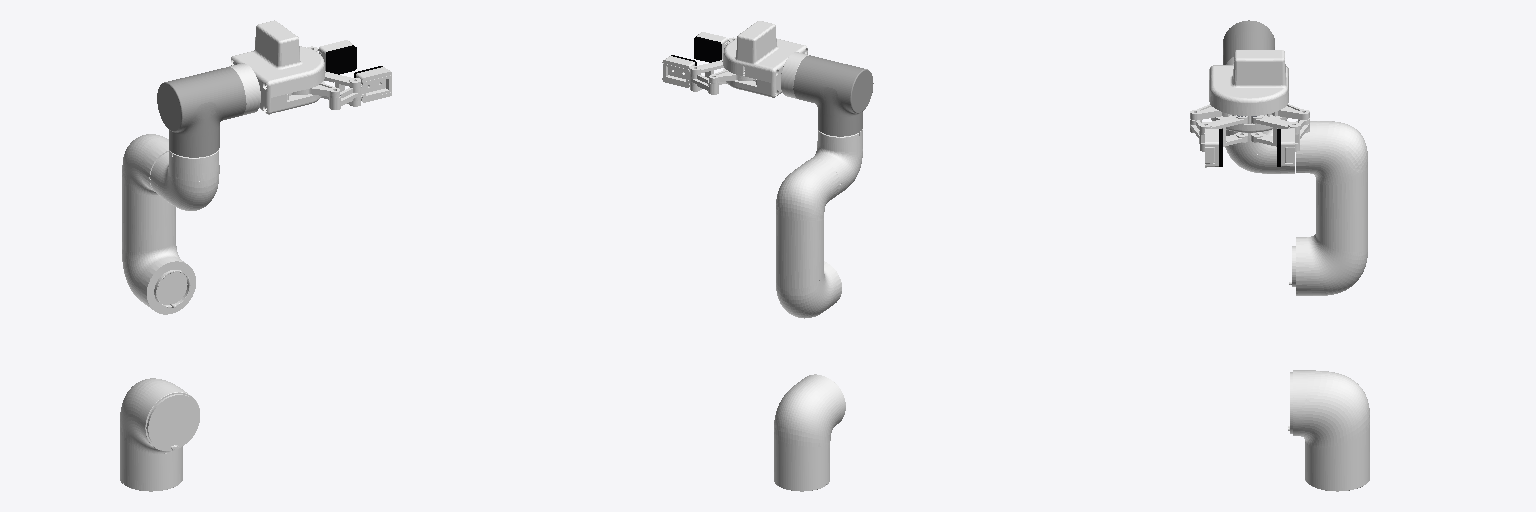
The robot description file, URDF, robot "mycobot_280_jn":
<?xml version="1.0"?>
<robot name="mycobot_280_jn">
  <link name="world"/>
  <joint name="world_to_g_base" type="fixed"><parent link="world"/><child link="g_base"/><origin xyz="0 0 0" rpy="0 0 0"/></joint>

  <link name="g_base">
    <visual>
      <geometry><mesh filename="package://mycobot_description/urdf/mycobot_280_jn_sim/meshes/visual/g_base.dae"/></geometry>
    </visual>
    <collision>
      <geometry><mesh filename="package://mycobot_description/urdf/mycobot_280_jn_sim/meshes/collision/g_base.stl"/></geometry>
    </collision>
    <inertial>
      <origin xyz="0.000004 0.000000 0.016000" rpy="0 0 0"/>
      <mass value="1.00000"/>
      <inertia ixx="1.9413e-03" ixy="3.1506e-09" ixz="8.1608e-14" iyy="1.0835e-03" iyz="-2.2217e-08" izz="2.8542e-03"/>
    </inertial>
  </link>
  <joint name="g_base_to_joint1" type="fixed"><parent link="g_base"/><child link="joint1"/><origin xyz="0 0 0.0320" rpy="0 0 0"/></joint>

  <link name="joint1">
    <visual>
      <geometry><mesh filename="package://mycobot_description/urdf/mycobot_280_jn_sim/meshes/visual/joint1.dae"/></geometry>
    </visual>
    <collision>
      <geometry><mesh filename="package://mycobot_description/urdf/mycobot_280_jn_sim/meshes/collision/joint1.stl"/></geometry>
    </collision>
    <inertial>
      <origin xyz="-0.000007 -0.000080 0.049738" rpy="0 0 0"/>
      <mass value="0.51726"/>
      <inertia ixx="1.2523e-03" ixy="7.0339e-09" ixz="-6.3450e-08" iyy="9.3955e-04" iyz="1.1529e-06" izz="1.2061e-03"/>
    </inertial>
  </link>
  <link name="joint2">
    <visual>
      <geometry><mesh filename="package://mycobot_description/urdf/mycobot_280_jn_sim/meshes/visual/joint2.dae"/></geometry>
    </visual>
    <collision>
      <geometry><mesh filename="package://mycobot_description/urdf/mycobot_280_jn_sim/meshes/collision/joint2.stl"/></geometry>
    </collision>
    <inertial>
      <origin xyz="-0.000000 -0.006642 -0.021543" rpy="0 0 0"/>
      <mass value="0.06483"/>
      <inertia ixx="4.7296e-05" ixy="-1.4455e-10" ixz="4.0893e-11" iyy="4.2690e-05" iyz="5.2950e-06" izz="2.4363e-05"/>
    </inertial>
  </link>
  <link name="joint3">
    <visual>
      <geometry><mesh filename="package://mycobot_description/urdf/mycobot_280_jn_sim/meshes/visual/joint3.dae"/></geometry>
    </visual>
    <collision>
      <geometry><mesh filename="package://mycobot_description/urdf/mycobot_280_jn_sim/meshes/collision/joint3.stl"/></geometry>
    </collision>
    <inertial>
      <origin xyz="-0.054329 -0.000001 0.055329" rpy="0 0 0"/>
      <mass value="0.11472"/>
      <inertia ixx="4.1667e-05" ixy="-4.5301e-09" ixz="-7.2144e-07" iyy="2.1506e-04" iyz="-8.8599e-10" izz="2.0847e-04"/>
    </inertial>
  </link>
  <link name="joint4">
    <visual>
      <geometry><mesh filename="package://mycobot_description/urdf/mycobot_280_jn_sim/meshes/visual/joint4.dae"/></geometry>
    </visual>
    <collision>
      <geometry><mesh filename="package://mycobot_description/urdf/mycobot_280_jn_sim/meshes/collision/joint4.stl"/></geometry>
    </collision>
    <inertial>
      <origin xyz="-0.045854 0.000000 0.007555" rpy="0 0 0"/>
      <mass value="0.09148"/>
      <inertia ixx="3.0829e-05" ixy="2.4590e-09" ixz="-3.0073e-06" iyy="1.3707e-04" iyz="1.3305e-09" izz="1.2859e-04"/>
    </inertial>
  </link>
  <link name="joint5">
    <visual>
      <geometry><mesh filename="package://mycobot_description/urdf/mycobot_280_jn_sim/meshes/visual/joint5.dae"/></geometry>
    </visual>
    <collision>
      <geometry><mesh filename="package://mycobot_description/urdf/mycobot_280_jn_sim/meshes/collision/joint5.stl"/></geometry>
    </collision>
    <inertial>
      <origin xyz="0.000001 -0.009519 -0.008481" rpy="0 0 0"/>
      <mass value="0.02935"/>
      <inertia ixx="1.1293e-05" ixy="2.2528e-10" ixz="1.0500e-10" iyy="8.1426e-06" iyz="1.6096e-06" izz="8.8742e-06"/>
    </inertial>
  </link>
  <link name="joint6">
    <visual>
      <geometry><mesh filename="package://mycobot_description/urdf/mycobot_280_jn_sim/meshes/visual/joint6.dae"/></geometry>
    </visual>
    <collision>
      <geometry><mesh filename="package://mycobot_description/urdf/mycobot_280_jn_sim/meshes/collision/joint6.stl"/></geometry>
    </collision>
    <inertial>
      <origin xyz="-0.000000 0.005619 -0.009142" rpy="0 0 0"/>
      <mass value="0.03671"/>
      <inertia ixx="1.6852e-05" ixy="1.3225e-11" ixz="9.2639e-11" iyy="1.2050e-05" iyz="-8.3674e-07" izz="1.2581e-05"/>
    </inertial>
  </link>
  <link name="joint6_flange">
    <visual>
      <geometry><mesh filename="package://mycobot_description/urdf/mycobot_280_jn_sim/meshes/visual/joint6_flange.dae"/></geometry>
    </visual>
    <collision>
      <geometry><mesh filename="package://mycobot_description/urdf/mycobot_280_jn_sim/meshes/collision/joint6_flange.stl"/></geometry>
    </collision>
    <inertial>
      <origin xyz="-0.000000 -0.000000 -0.005150" rpy="0 0 0"/>
      <mass value="0.00565"/>
      <inertia ixx="6.0852e-07" ixy="-5.1861e-24" ixz="1.4684e-24" iyy="6.0852e-07" iyz="-7.5632e-16" izz="1.0405e-06"/>
    </inertial>
  </link>
  <joint name="joint2_to_joint1" type="revolute">
    <parent link="joint1"/><child link="joint2"/>
    <origin xyz="0 0 0.15756" rpy="0 0 0"/>
    <axis xyz="0 0 1"/>
    <limit effort="10.0" lower="-2.9321" upper="2.9321" velocity="1.0"/>
    <dynamics damping="0.1" friction="0.01"/>
  </joint>
  <joint name="joint3_to_joint2" type="revolute">
    <parent link="joint2"/><child link="joint3"/>
    <origin xyz="0 0 -0.001" rpy="0 1.5708 -1.5708"/>
    <axis xyz="0 0 1"/>
    <limit effort="10.0" lower="-2.4434" upper="2.4434" velocity="1.0"/>
    <dynamics damping="0.1" friction="0.01"/>
  </joint>
  <joint name="joint4_to_joint3" type="revolute">
    <parent link="joint3"/><child link="joint4"/>
    <origin xyz="-0.1104 0 0" rpy="0 0 0"/>
    <axis xyz="0 0 1"/>
    <limit effort="10.0" lower="-2.6179" upper="2.6179" velocity="1.0"/>
    <dynamics damping="0.1" friction="0.01"/>
  </joint>
  <joint name="joint5_to_joint4" type="revolute">
    <parent link="joint4"/><child link="joint5"/>
    <origin xyz="-0.096 0 0.06462" rpy="0 0 -1.5708"/>
    <axis xyz="0 0 1"/>
    <limit effort="10.0" lower="-2.6179" upper="2.6179" velocity="1.0"/>
    <dynamics damping="0.1" friction="0.01"/>
  </joint>
  <joint name="joint6_to_joint5" type="revolute">
    <parent link="joint5"/><child link="joint6"/>
    <origin xyz="0 -0.07318 0" rpy="1.5708 -1.5708 0"/>
    <axis xyz="0 0 1"/>
    <limit effort="10.0" lower="-2.7052" upper="2.7925" velocity="1.0"/>
    <dynamics damping="0.1" friction="0.01"/>
  </joint>
  <joint name="joint6output_to_joint6" type="revolute">
    <parent link="joint6"/><child link="joint6_flange"/>
    <origin xyz="0 0.0456 0" rpy="-1.5708 0 0"/>
    <axis xyz="0 0 1"/>
    <limit effort="10.0" lower="-3.14159" upper="3.14159" velocity="1.0"/>
    <dynamics damping="0.1" friction="0.01"/>
  </joint>
  <joint name="joint6output_to_gripper_base" type="fixed">
    <parent link="joint6_flange"/><child link="gripper_base"/>
    <origin xyz="0 0 0.0340" rpy="1.5708 0 0"/>
  </joint>
  <link name="gripper_base">
    <visual>
      <geometry><mesh filename="package://mycobot_description/urdf/mycobot_280_jn_sim/meshes/visual/gripper_base.dae"/></geometry>
    </visual>
    <collision>
      <geometry><mesh filename="package://mycobot_description/urdf/mycobot_280_jn_sim/meshes/collision/gripper_base.stl"/></geometry>
    </collision>
    <inertial>
      <origin xyz="-0.001001 -0.003635 0.008093" rpy="0 0 0"/>
      <mass value="0.07075"/>
      <inertia ixx="2.8026e-05" ixy="5.3586e-08" ixz="1.3520e-06" iyy="2.7596e-05" iyz="-2.1469e-07" izz="3.3185e-05"/>
    </inertial>
  </link>
  <link name="gripper_left1">
    <visual>
      <geometry><mesh filename="package://mycobot_description/urdf/mycobot_280_jn_sim/meshes/visual/gripper_left1.dae"/></geometry>
    </visual>
    <collision>
      <geometry><mesh filename="package://mycobot_description/urdf/mycobot_280_jn_sim/meshes/collision/gripper_left1.stl"/></geometry>
    </collision>
    <inertial>
      <origin xyz="0.008214 0.028640 -0.008200" rpy="0 0 0"/>
      <mass value="0.00818"/>
      <inertia ixx="1.9436e-06" ixy="-4.0582e-07" ixz="-4.5846e-18" iyy="4.9518e-07" iyz="1.0352e-17" izz="1.9801e-06"/>
    </inertial>
  </link>
  <link name="gripper_left2">
    <visual>
      <geometry><mesh filename="package://mycobot_description/urdf/mycobot_280_jn_sim/meshes/visual/gripper_left2.dae"/></geometry>
    </visual>
    <collision>
      <geometry><mesh filename="package://mycobot_description/urdf/mycobot_280_jn_sim/meshes/collision/gripper_left2.stl"/></geometry>
    </collision>
    <inertial>
      <origin xyz="-0.014480 0.007475 -0.008200" rpy="0 0 0"/>
      <mass value="0.00382"/>
      <inertia ixx="2.5930e-07" ixy="1.8945e-07" ixz="3.4700e-22" iyy="4.8476e-07" iyz="-1.7350e-22" izz="4.9007e-07"/>
    </inertial>
  </link>
  <link name="gripper_left3">
    <visual>
      <geometry><mesh filename="package://mycobot_description/urdf/mycobot_280_jn_sim/meshes/visual/gripper_left3.dae"/></geometry>
    </visual>
    <collision>
      <geometry><mesh filename="package://mycobot_description/urdf/mycobot_280_jn_sim/meshes/collision/gripper_left3.stl"/></geometry>
    </collision>
    <inertial>
      <origin xyz="-0.007273 0.003393 -0.000700" rpy="0 0 0"/>
      <mass value="0.00262"/>
      <inertia ixx="1.8212e-07" ixy="1.1552e-07" ixz="3.0543e-22" iyy="3.1951e-07" iyz="-1.8344e-22" izz="4.9073e-07"/>
    </inertial>
  </link>
  <link name="gripper_right1">
    <visual>
      <geometry><mesh filename="package://mycobot_description/urdf/mycobot_280_jn_sim/meshes/visual/gripper_right1.dae"/></geometry>
    </visual>
    <collision>
      <geometry><mesh filename="package://mycobot_description/urdf/mycobot_280_jn_sim/meshes/collision/gripper_right1.stl"/></geometry>
    </collision>
    <inertial>
      <origin xyz="-0.009429 0.029012 -0.008200" rpy="0 0 0"/>
      <mass value="0.00818"/>
      <inertia ixx="1.9436e-06" ixy="4.0581e-07" ixz="-4.5855e-18" iyy="4.9518e-07" iyz="-1.0353e-17" izz="1.9801e-06"/>
    </inertial>
  </link>
  <link name="gripper_right2">
    <visual>
      <geometry><mesh filename="package://mycobot_description/urdf/mycobot_280_jn_sim/meshes/visual/gripper_right2.dae"/></geometry>
    </visual>
    <collision>
      <geometry><mesh filename="package://mycobot_description/urdf/mycobot_280_jn_sim/meshes/collision/gripper_right2.stl"/></geometry>
    </collision>
    <inertial>
      <origin xyz="0.013373 0.007661 -0.008200" rpy="0 0 0"/>
      <mass value="0.00382"/>
      <inertia ixx="2.6459e-07" ixy="-1.9250e-07" ixz="-4.0483e-22" iyy="4.7946e-07" iyz="2.8917e-23" izz="4.9007e-07"/>
    </inertial>
  </link>
  <link name="gripper_right3">
    <visual>
      <geometry><mesh filename="package://mycobot_description/urdf/mycobot_280_jn_sim/meshes/visual/gripper_right3.dae"/></geometry>
    </visual>
    <collision>
      <geometry><mesh filename="package://mycobot_description/urdf/mycobot_280_jn_sim/meshes/collision/gripper_right3.stl"/></geometry>
    </collision>
    <inertial>
      <origin xyz="0.006227 0.003481 -0.000700" rpy="0 0 0"/>
      <mass value="0.00262"/>
      <inertia ixx="1.8527e-07" ixy="-1.1744e-07" ixz="-1.9519e-22" iyy="3.1623e-07" iyz="-1.5091e-22" izz="4.9060e-07"/>
    </inertial>
  </link>
  <joint name="gripper_controller" type="revolute">
    <parent link="gripper_base"/><child link="gripper_left3"/>
    <origin xyz="-0.012 0.005 0" rpy="0 0 0"/>
    <axis xyz="0 0 1"/>
    <limit effort="10.0" lower="-0.74" upper="0.15" velocity="1.0"/>
    <dynamics damping="0.1" friction="0.01"/>
  </joint>
  <joint name="gripper_base_to_gripper_left2" type="revolute">
    <parent link="gripper_base"/><child link="gripper_left2"/>
    <origin xyz="-0.005 0.027 0" rpy="0 0 0"/>
    <axis xyz="0 0 1"/>
    <limit effort="10.0" lower="-0.8" upper="0.5" velocity="1.0"/>
    <dynamics damping="0.1" friction="0.01"/>
    <mimic joint="gripper_controller" multiplier="1.0" offset="0"/>
  </joint>
  <joint name="gripper_left3_to_gripper_left1" type="revolute">
    <parent link="gripper_left3"/><child link="gripper_left1"/>
    <origin xyz="-0.027 0.016 0" rpy="0 0 0"/>
    <axis xyz="0 0 1"/>
    <limit effort="10.0" lower="-0.5" upper="0.5" velocity="1.0"/>
    <dynamics damping="0.1" friction="0.01"/>
    <mimic joint="gripper_controller" multiplier="-1.0" offset="0"/>
  </joint>
  <joint name="gripper_base_to_gripper_right3" type="revolute">
    <parent link="gripper_base"/><child link="gripper_right3"/>
    <origin xyz="0.012 0.005 0" rpy="0 0 0"/>
    <axis xyz="0 0 1"/>
    <limit effort="10.0" lower="-0.15" upper="0.7" velocity="1.0"/>
    <dynamics damping="0.1" friction="0.01"/>
    <mimic joint="gripper_controller" multiplier="-1.0" offset="0"/>
  </joint>
  <joint name="gripper_base_to_gripper_right2" type="revolute">
    <parent link="gripper_base"/><child link="gripper_right2"/>
    <origin xyz="0.005 0.027 0" rpy="0 0 0"/>
    <axis xyz="0 0 1"/>
    <limit effort="10.0" lower="-0.5" upper="0.8" velocity="1.0"/>
    <dynamics damping="0.1" friction="0.01"/>
    <mimic joint="gripper_controller" multiplier="-1.0" offset="0"/>
  </joint>
  <joint name="gripper_right3_to_gripper_right1" type="revolute">
    <parent link="gripper_right3"/><child link="gripper_right1"/>
    <origin xyz="0.027 0.016 0" rpy="0 0 0"/>
    <axis xyz="0 0 1"/>
    <limit effort="10.0" lower="-0.5" upper="0.5" velocity="1.0"/>
    <dynamics damping="0.1" friction="0.01"/>
    <mimic joint="gripper_controller" multiplier="1.0" offset="0"/>
  </joint>

  <!-- Gazebo: gravity off on the moving links (passive joints would otherwise fall; no controller yet) -->
  <gazebo reference="joint2"><turnGravityOff>true</turnGravityOff></gazebo>
  <gazebo reference="joint3"><turnGravityOff>true</turnGravityOff></gazebo>
  <gazebo reference="joint4"><turnGravityOff>true</turnGravityOff></gazebo>
  <gazebo reference="joint5"><turnGravityOff>true</turnGravityOff></gazebo>
  <gazebo reference="joint6"><turnGravityOff>true</turnGravityOff></gazebo>
  <gazebo reference="joint6_flange"><turnGravityOff>true</turnGravityOff></gazebo>
  <gazebo reference="gripper_base"><turnGravityOff>true</turnGravityOff></gazebo>
  <gazebo reference="gripper_left1"><turnGravityOff>true</turnGravityOff></gazebo>
  <gazebo reference="gripper_left2"><turnGravityOff>true</turnGravityOff></gazebo>
  <gazebo reference="gripper_left3"><turnGravityOff>true</turnGravityOff></gazebo>
  <gazebo reference="gripper_right1"><turnGravityOff>true</turnGravityOff></gazebo>
  <gazebo reference="gripper_right2"><turnGravityOff>true</turnGravityOff></gazebo>
  <gazebo reference="gripper_right3"><turnGravityOff>true</turnGravityOff></gazebo>
</robot>

--- Render facts (derived) ---
The picture shows the robot from 3 angles, left to right: view 1: azimuth 30°, elevation 25°; view 2: azimuth 150°, elevation 25°; view 3: azimuth 270°, elevation 25°; orthographic projection.
Model mycobot_280_jn with 16 links and 15 joints (12 revolute, 3 fixed), rooted at world, posed every joint at zero.
Visible links, largest first — view 1: joint4, joint2, joint6, gripper_base, joint5, gripper_right1, gripper_left1, joint6_flange; view 2: joint4, joint2, joint6, gripper_base, joint5, gripper_left1, gripper_right1, joint6_flange; view 3: joint4, joint2, gripper_base, joint5, joint6, gripper_right1, gripper_left1, gripper_left2, gripper_right2.
Link boxes in pixels (bbox=[...]): joint4: bbox=[122, 134, 195, 314]; joint2: bbox=[120, 378, 199, 491]; joint6: bbox=[157, 67, 246, 157]; gripper_base: bbox=[231, 20, 324, 114]; joint5: bbox=[150, 150, 219, 210]; gripper_right1: bbox=[329, 66, 391, 109]; gripper_left1: bbox=[318, 40, 356, 74]; joint6_flange: bbox=[229, 63, 260, 115]; joint4: bbox=[776, 159, 841, 318]; joint2: bbox=[774, 374, 845, 491]; joint6: bbox=[793, 55, 873, 136]; gripper_base: bbox=[723, 21, 807, 97]; joint5: bbox=[811, 129, 862, 197]; gripper_left1: bbox=[662, 55, 718, 94]; gripper_right1: bbox=[694, 32, 727, 62]; joint6_flange: bbox=[781, 52, 808, 98]; joint4: bbox=[1289, 121, 1367, 295]; joint2: bbox=[1288, 370, 1369, 491]; gripper_base: bbox=[1209, 50, 1288, 132]; joint5: bbox=[1225, 129, 1294, 173]; joint6: bbox=[1223, 20, 1274, 64]; gripper_right1: bbox=[1190, 119, 1222, 167]; gripper_left1: bbox=[1277, 118, 1309, 166]; gripper_left2: bbox=[1251, 115, 1299, 151]; gripper_right2: bbox=[1200, 115, 1247, 151].
Bounding box of the posed robot: 0.1782 × 0.1321 × 0.3804 m (x, y, z).
12 mesh visuals loaded from 15 distinct referenced files (12 Collada DAE); not drawn: 3 (reference not matched to a file when rendering).
